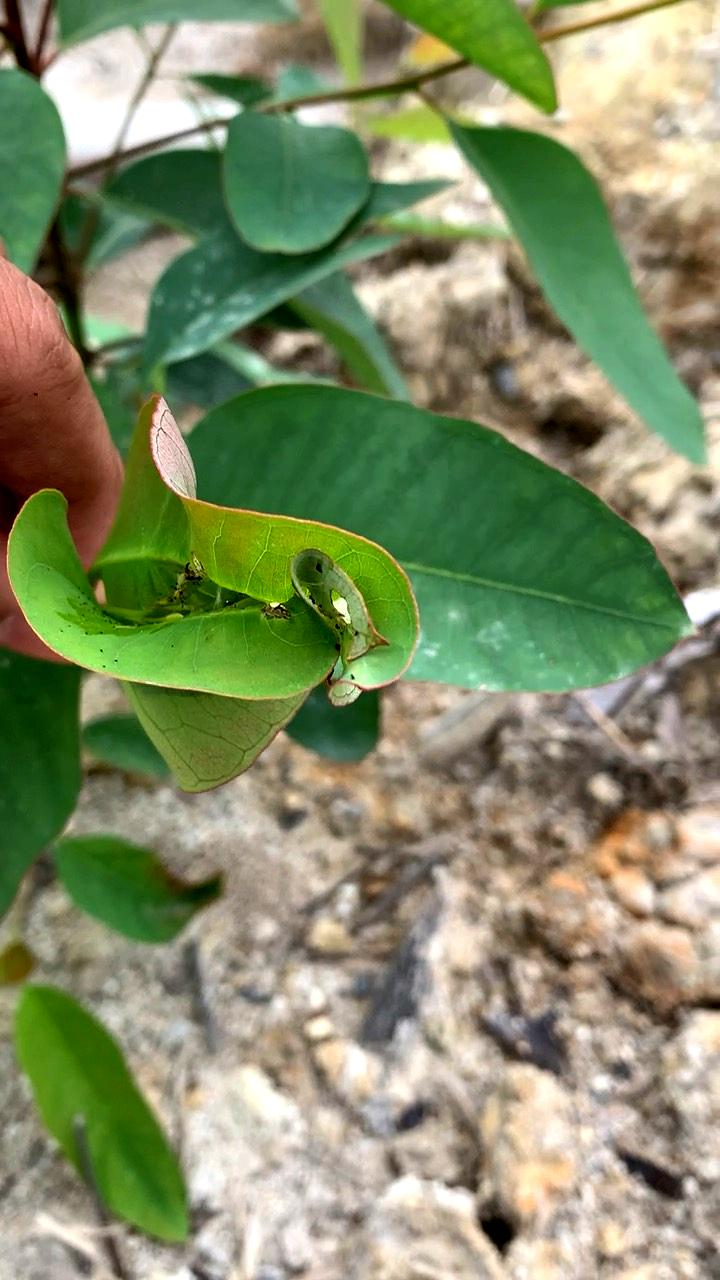Leaf Roller - Leaf: (0, 383, 436, 818)
